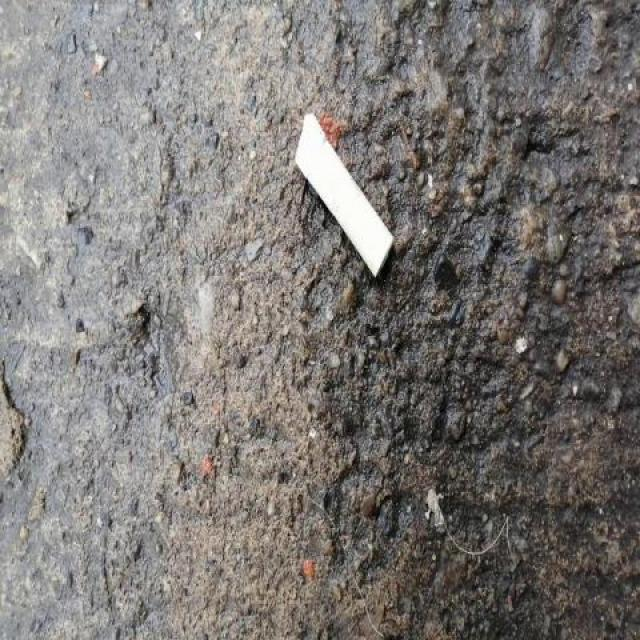non-organic waste: (288, 110, 400, 282)
